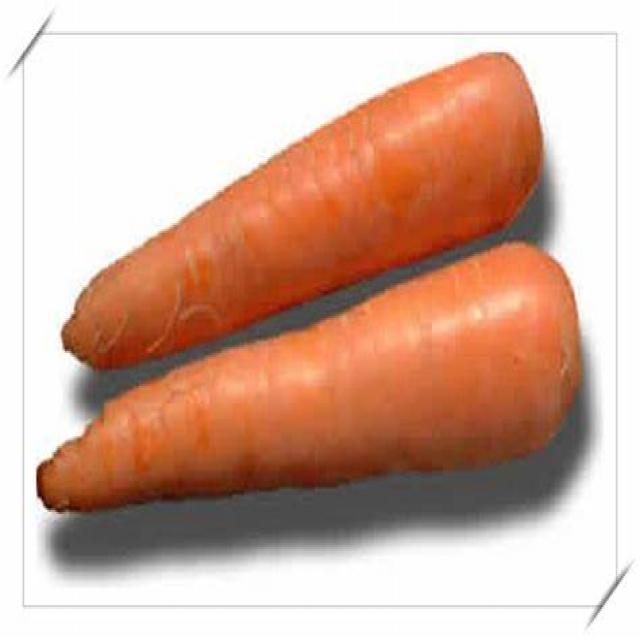Carrot: (56, 52, 546, 369), (34, 247, 591, 518)
